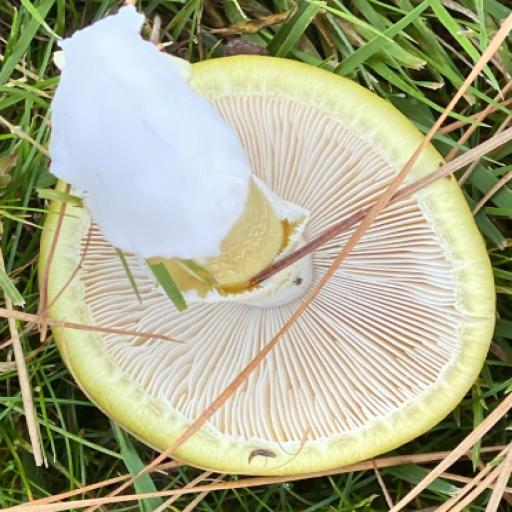Death Cap: (0, 1, 512, 512)
